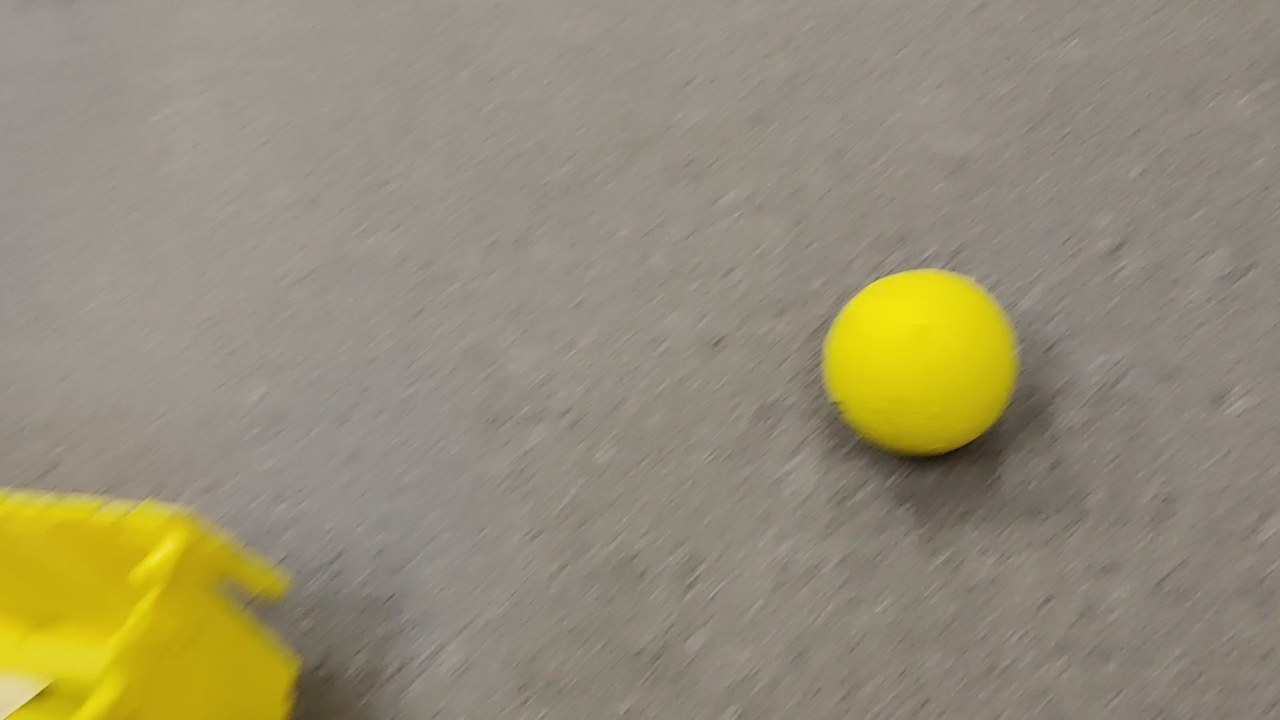Ball: (824, 265, 1019, 454)
